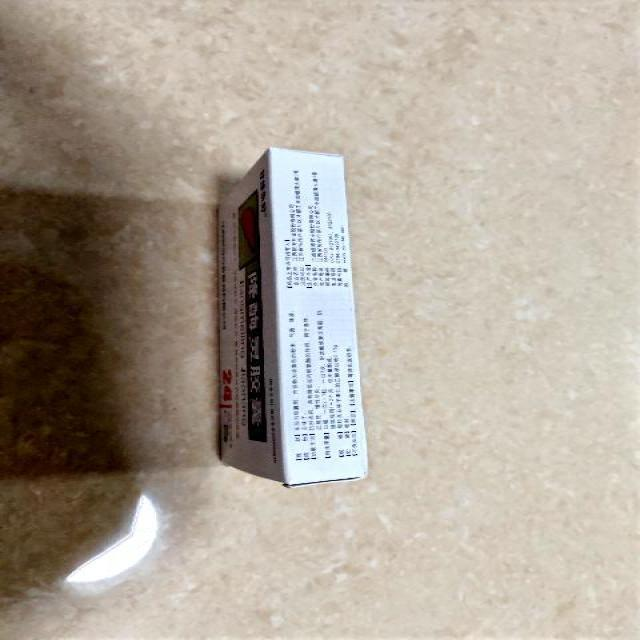box: (218, 146, 368, 487)
